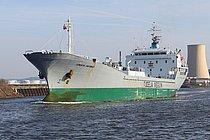Ship: (21, 17, 194, 107)
